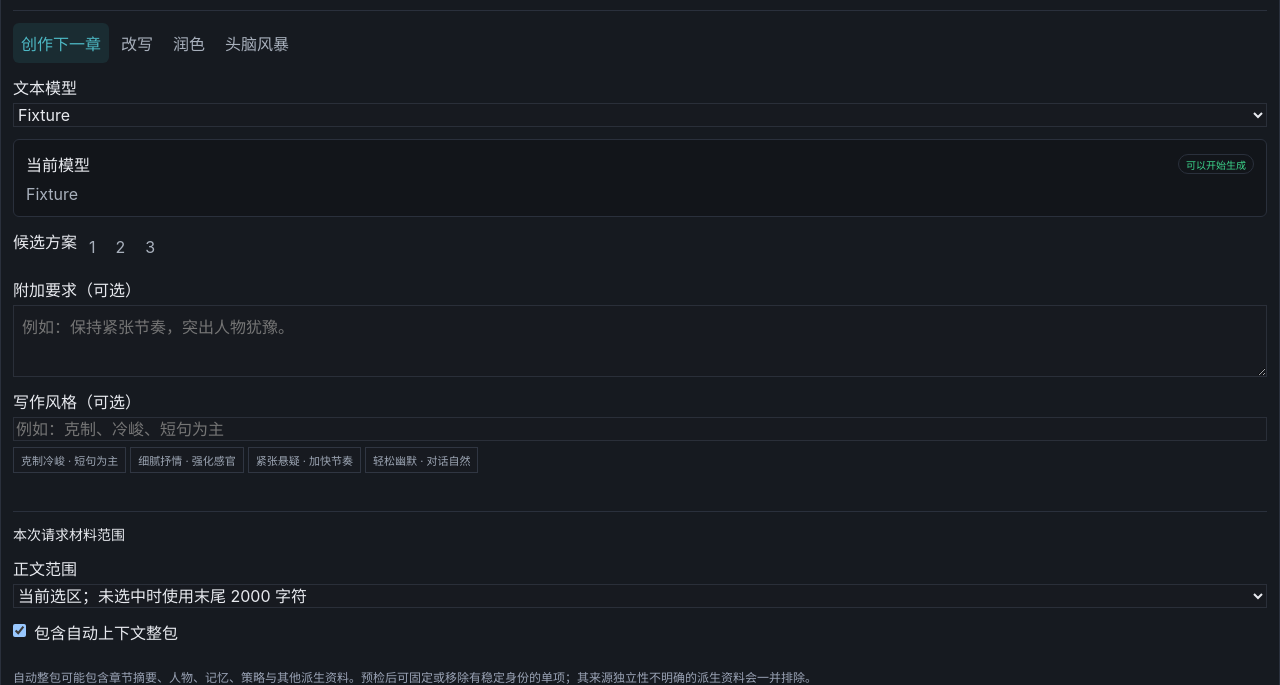
Test case: request removals and exact variant mapping › sends real scope controls, clears stale receipts and disables dependent reference pins
Click the checkbox labelled "包含自动上下文整包" at (20, 630), box [13,624,26,637]
(page scrolled)
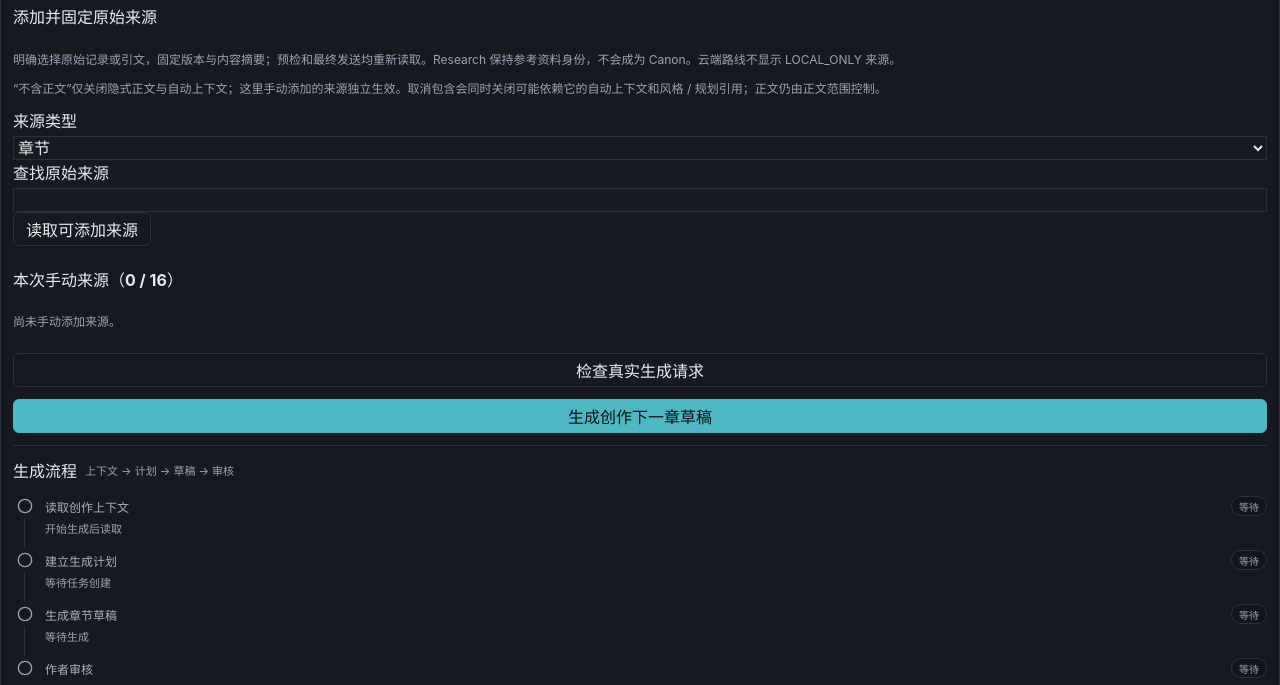
Click the button "检查真实生成请求" at (640, 370), box [13,353,1267,387]
(page scrolled)
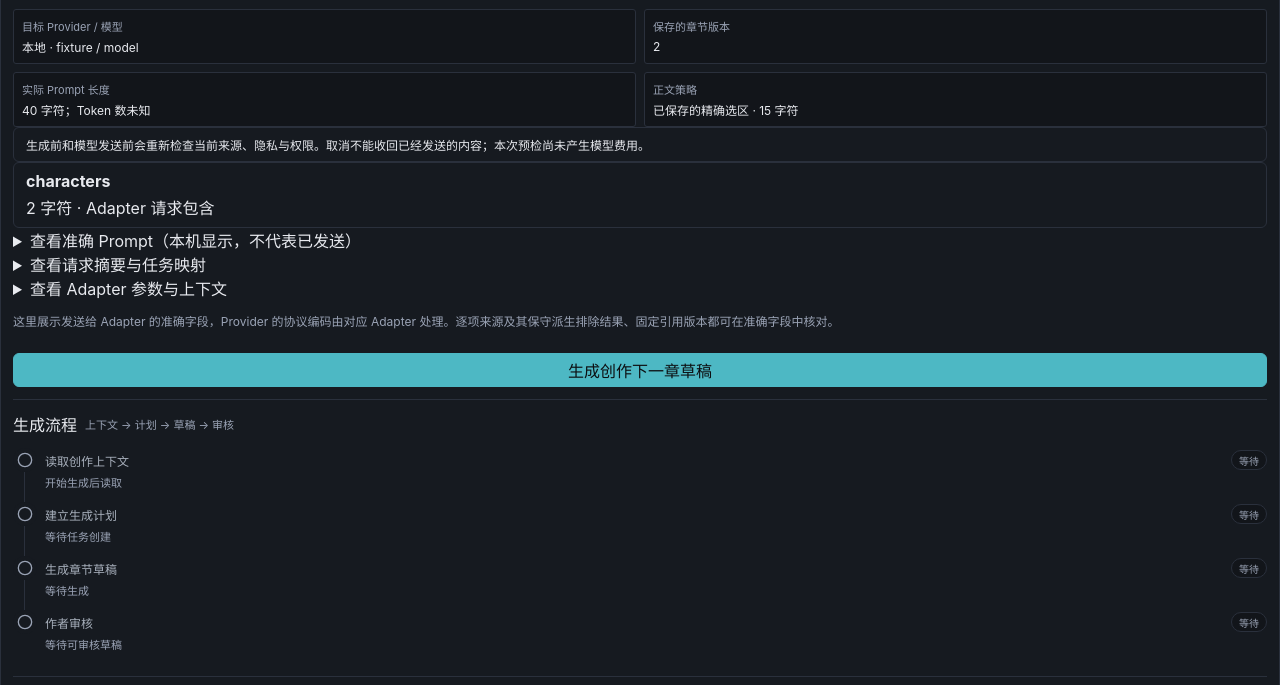
Click the button "生成创作下一章草稿" at (640, 370), box [13,353,1267,387]
(page scrolled)
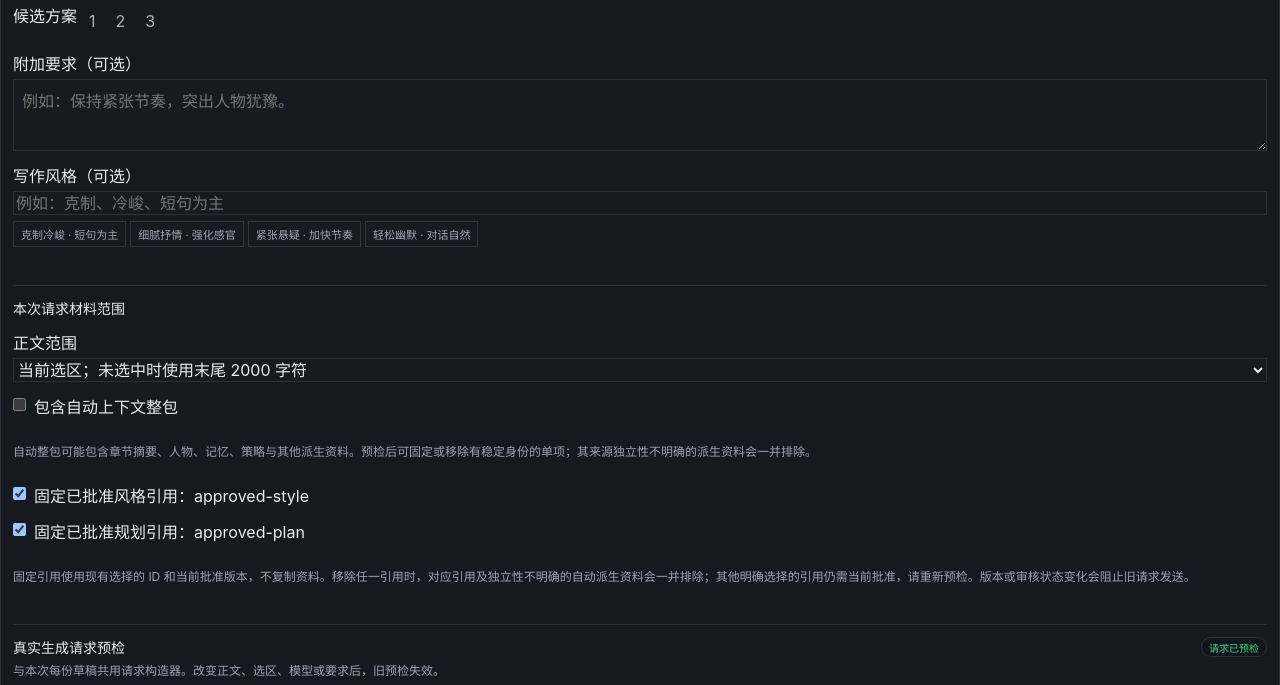
Select "不包含正文" in the dropdown labelled "正文范围" at (640, 370), box [13,358,1267,382]
(page scrolled)
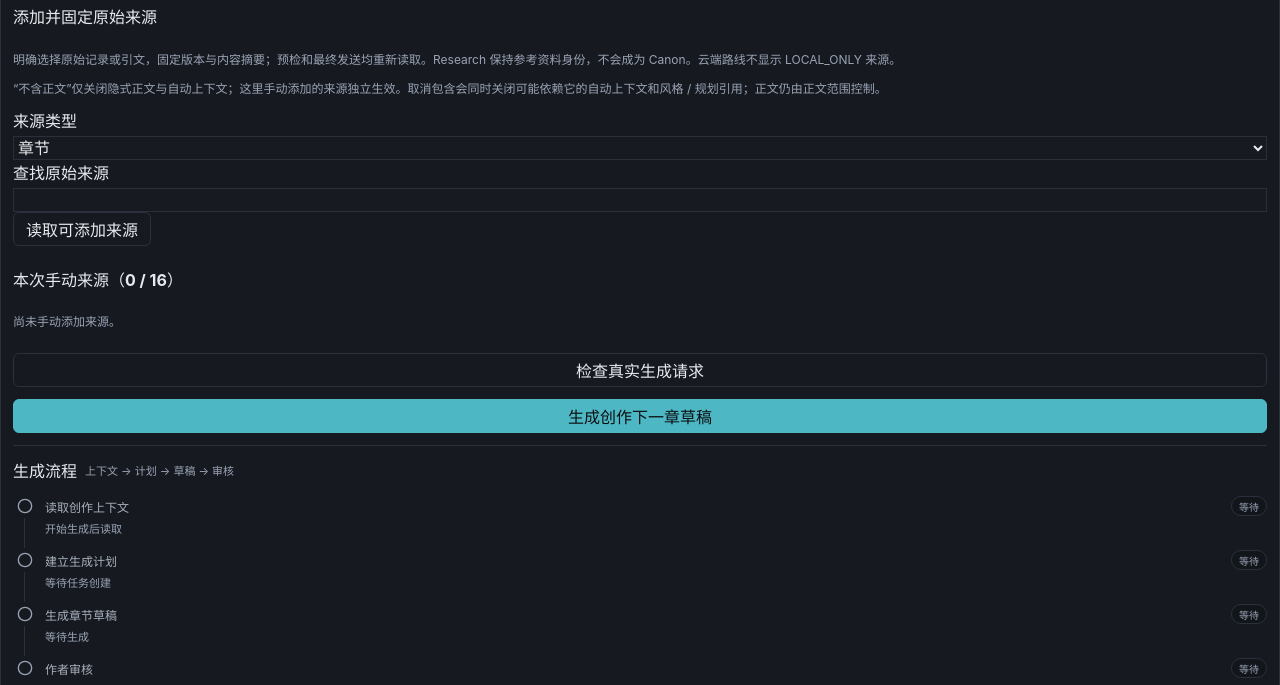
Result: the button "生成创作下一章草稿" is disabled at [13,399,1267,433]
Click the button "检查真实生成请求" at (640, 370), box [13,353,1267,387]
(page scrolled)
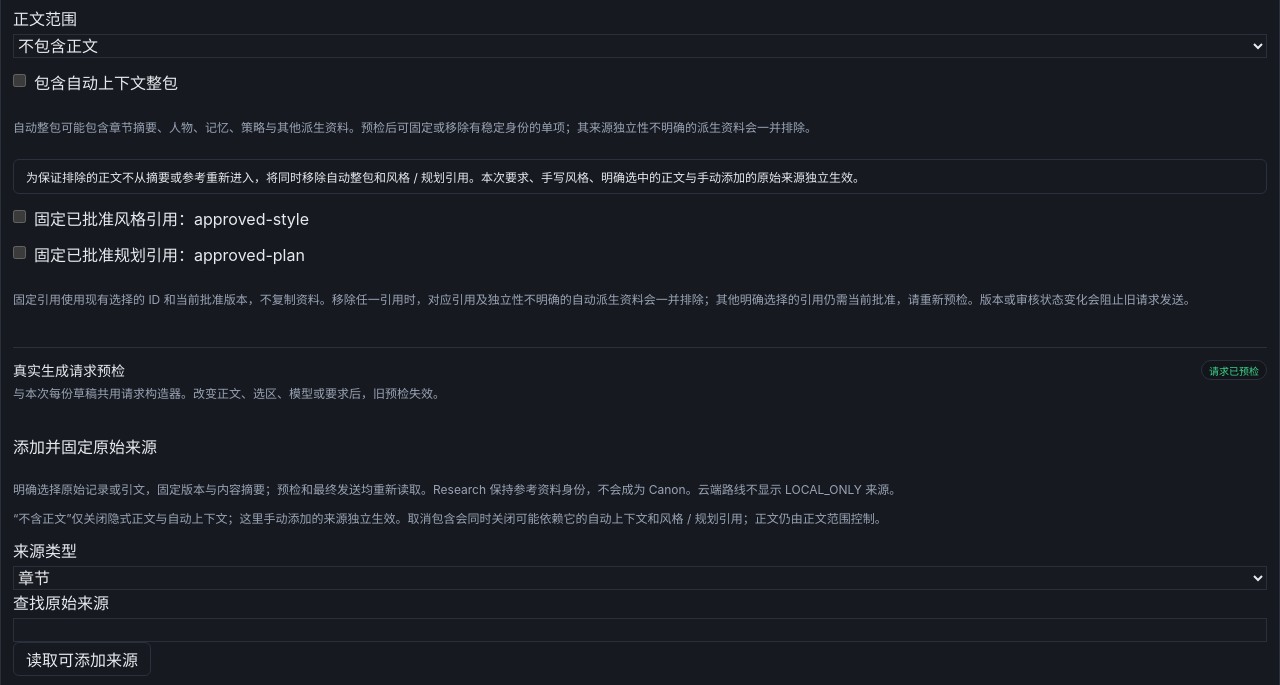
Result: the text "请求已预检" is shown at [1201,360,1267,380]
